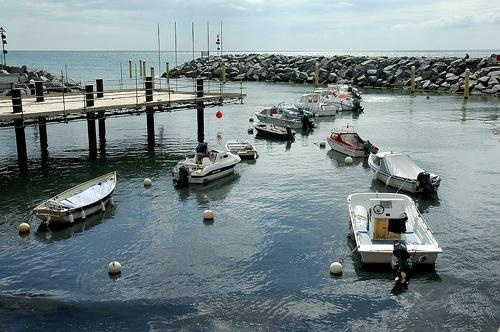boat: (348, 191, 444, 289), (33, 171, 118, 225), (369, 150, 442, 196), (172, 143, 242, 189), (327, 123, 380, 159), (254, 105, 319, 131), (291, 92, 340, 118), (252, 121, 297, 142), (225, 140, 259, 160)
